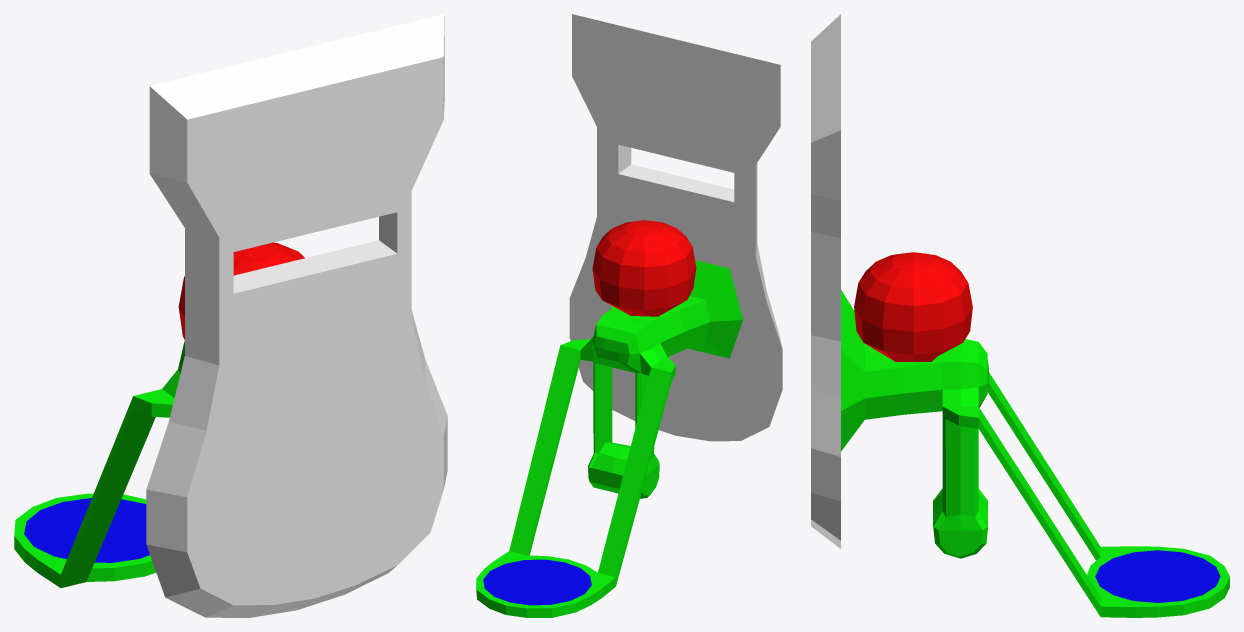
File: Escudo.glb
3 renders of one model, left to right at view 1: azimuth 30°, elevation 25°; view 2: azimuth 150°, elevation 25°; view 3: azimuth 270°, elevation 25°, orthographic. The views are drawn at different scales.
Parts seen in each view (by area): view 1: Escudo; view 2: Escudo; view 3: Escudo.
Boxes of the visible parts, left/top/right/bottom form: Escudo: left=14, top=14, right=447, bottom=617; Escudo: left=476, top=14, right=782, bottom=617; Escudo: left=811, top=14, right=1229, bottom=617.
Size of the model in its own units: 0.94 by 1.9 by 1.4.
